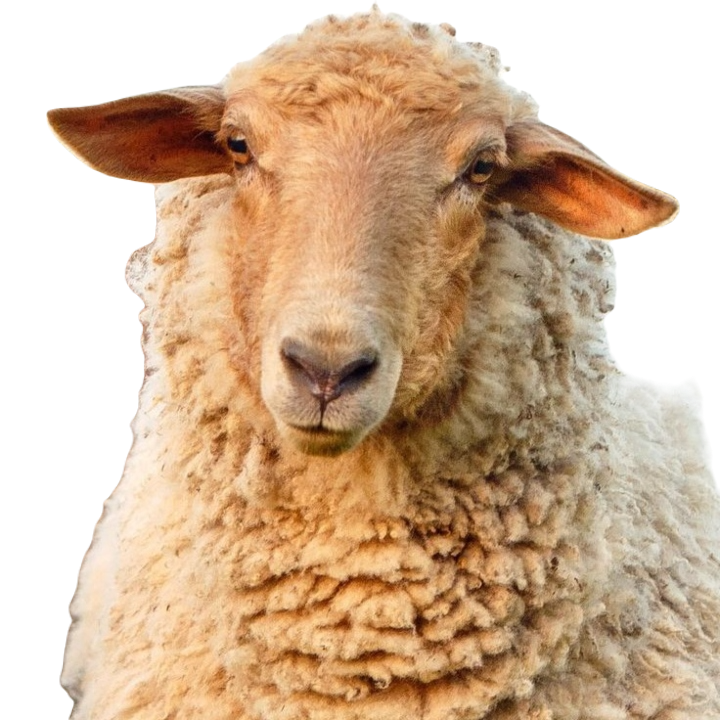Sheep: (44, 0, 719, 719)
